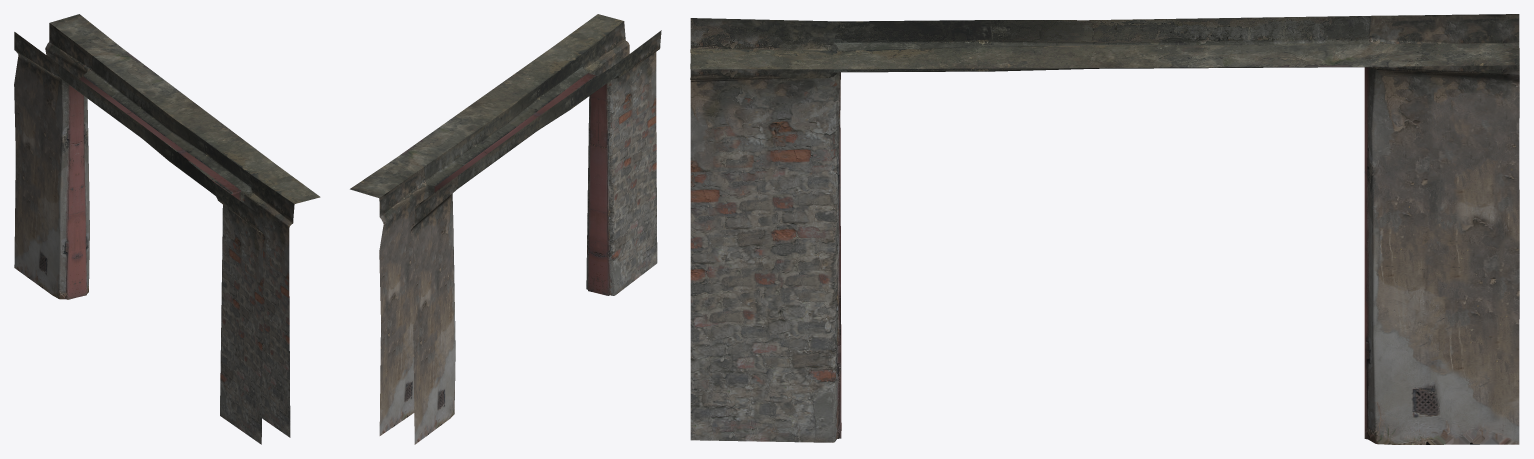
Rendered from sm_GarageFront_01_03.fbx.
The picture shows the model from 3 angles, left to right: view 1: azimuth 30°, elevation 25°; view 2: azimuth 150°, elevation 25°; view 3: azimuth 270°, elevation 25°; orthographic projection. The views are drawn at different scales.
Visible parts, largest first — view 1: sm_GarageFront_01_03_LOD0; view 2: sm_GarageFront_01_03_LOD0; view 3: sm_GarageFront_01_03_LOD0.
Boxes of the visible parts, x1,y1,x2,y2 form: sm_GarageFront_01_03_LOD0: (14,14,320,444); sm_GarageFront_01_03_LOD0: (350,14,661,444); sm_GarageFront_01_03_LOD0: (690,14,1519,444).
Bounding box in the file's own units: 555 × 86.64 × 300.
